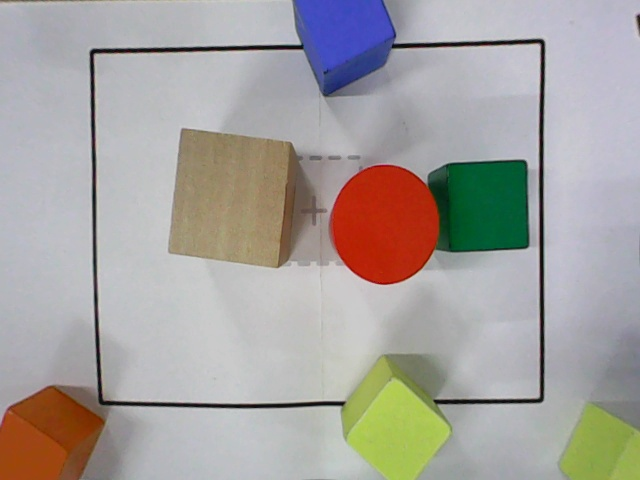upside of big cube: (167, 129, 290, 268)
upside of cylinder: (332, 165, 441, 283)
upside of small cube: (343, 375, 453, 479), (447, 160, 530, 251), (294, 0, 395, 73), (0, 409, 70, 479), (606, 430, 639, 479)
